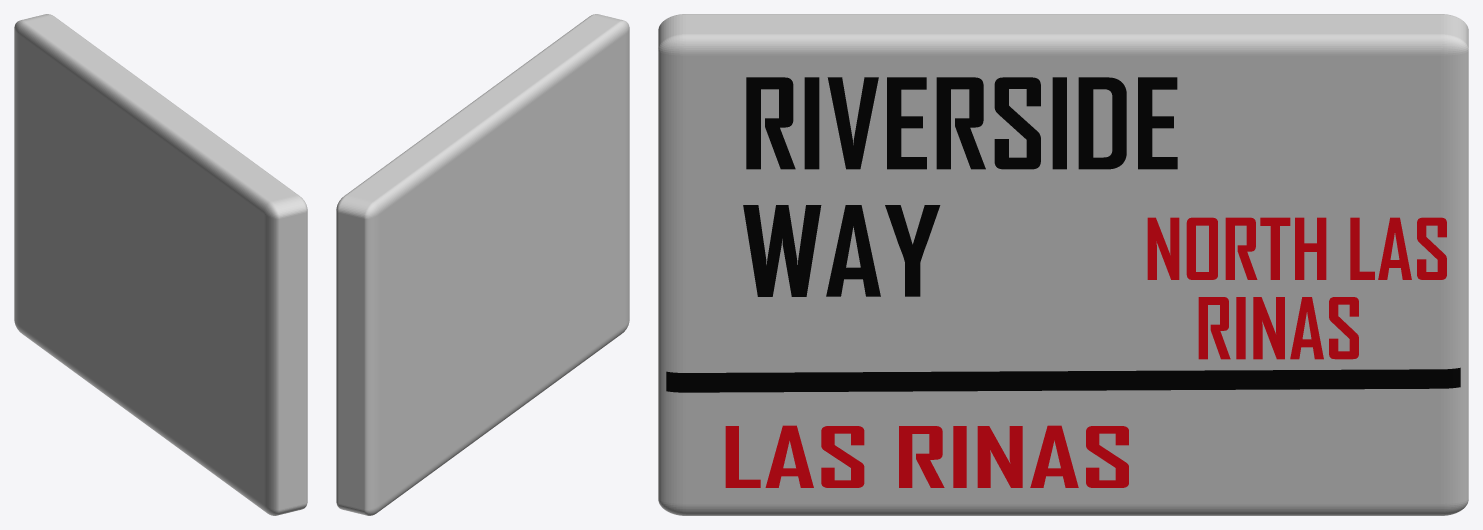
The model's file is uk_styled_street_sign_9.fbx.
The picture shows the model from 3 angles, left to right: view 1: azimuth 30°, elevation 25°; view 2: azimuth 150°, elevation 25°; view 3: azimuth 270°, elevation 25°; orthographic projection. The views are drawn at different scales.
Visible parts, largest first — view 1: Cube; view 2: Cube; view 3: Cube, Text, Text.002, Text.003, Text.001, Text.004.
Part boxes in pixels (x1,y1,x2,y2): Cube: (14,14,307,515); Cube: (336,14,629,515); Cube: (658,14,1468,515); Text: (746,77,1177,169); Text.002: (725,425,1128,487); Text.003: (1147,217,1446,279); Text.001: (743,205,940,296); Text.004: (1198,297,1358,359).
Size of the model in its own units: 1.63 by 11.91 by 18.18.
